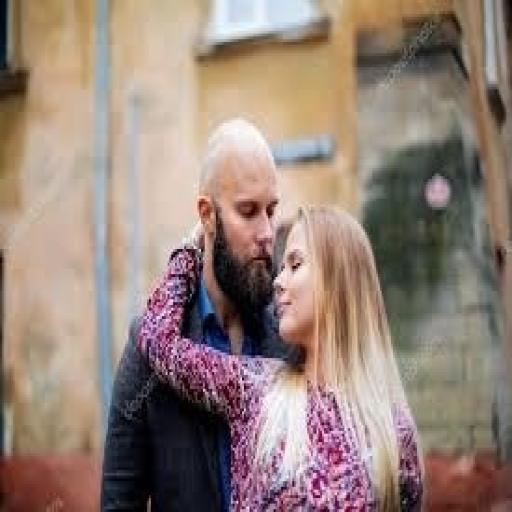hugging: (99, 115, 426, 509)
